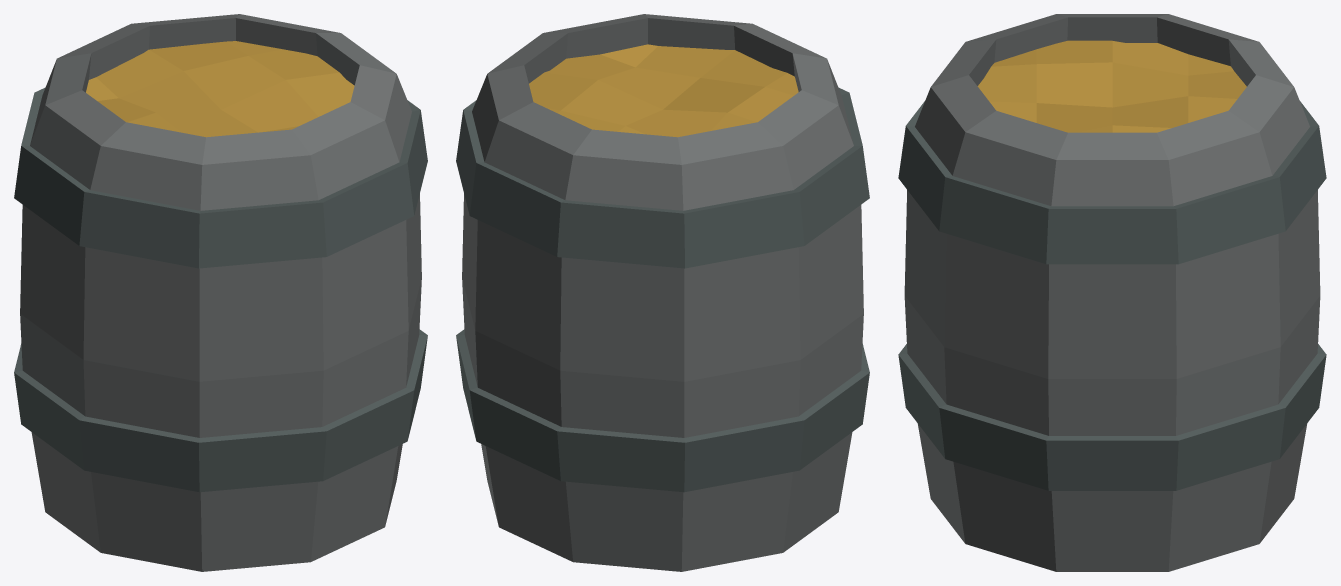
File: Barrel_5_Gray.fbx
The picture shows the model from 3 angles, left to right: view 1: azimuth 30°, elevation 25°; view 2: azimuth 150°, elevation 25°; view 3: azimuth 270°, elevation 25°; orthographic projection.
Visible parts, largest first — view 1: Barrel_5_Gray_Part_1, Barrel_5_Gray_Part_2, Barrel_5_Gray_Part_3; view 2: Barrel_5_Gray_Part_1, Barrel_5_Gray_Part_2, Barrel_5_Gray_Part_3; view 3: Barrel_5_Gray_Part_1, Barrel_5_Gray_Part_2, Barrel_5_Gray_Part_3.
Part boxes in pixels (x1,y1,x2,y2): Barrel_5_Gray_Part_1: [20, 14, 421, 571]; Barrel_5_Gray_Part_2: [14, 87, 427, 492]; Barrel_5_Gray_Part_3: [86, 41, 354, 137]; Barrel_5_Gray_Part_1: [462, 14, 863, 571]; Barrel_5_Gray_Part_2: [456, 87, 869, 492]; Barrel_5_Gray_Part_3: [529, 44, 798, 137]; Barrel_5_Gray_Part_1: [904, 14, 1320, 571]; Barrel_5_Gray_Part_2: [898, 101, 1326, 490]; Barrel_5_Gray_Part_3: [977, 40, 1246, 132].
Size of the model in its own units: 134 by 154 by 141.
